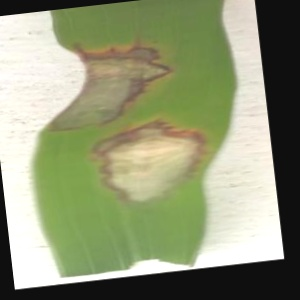Brown_Spot: (90, 116, 234, 216), (39, 37, 171, 135)
